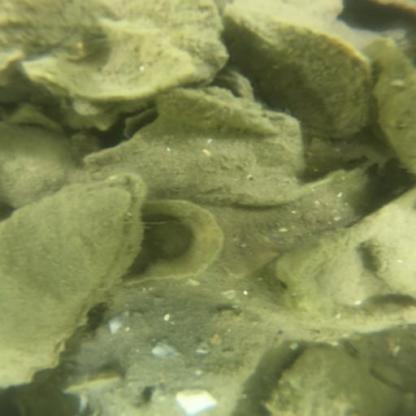Oyster- Indeterminate: (1, 170, 146, 385)
Oyster-Closed: (84, 90, 307, 202), (77, 303, 275, 416), (226, 12, 372, 137), (267, 345, 407, 415), (152, 83, 281, 136), (375, 41, 415, 182), (3, 124, 70, 207), (366, 188, 414, 294)
